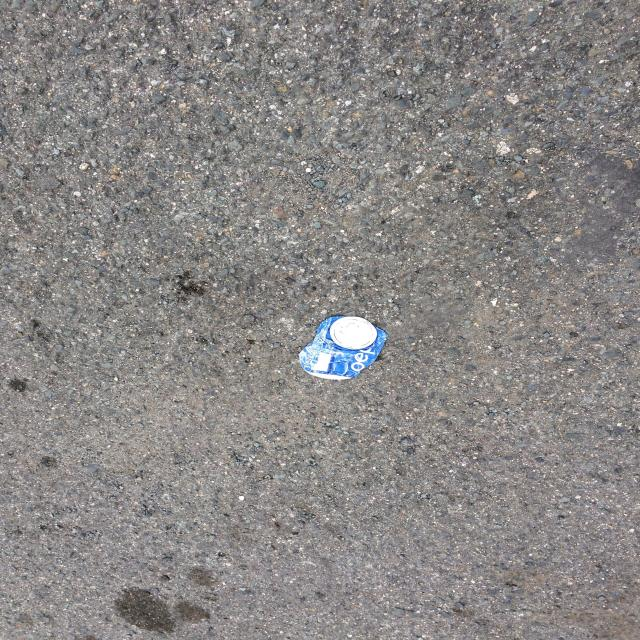litter: (297, 317, 387, 381)
